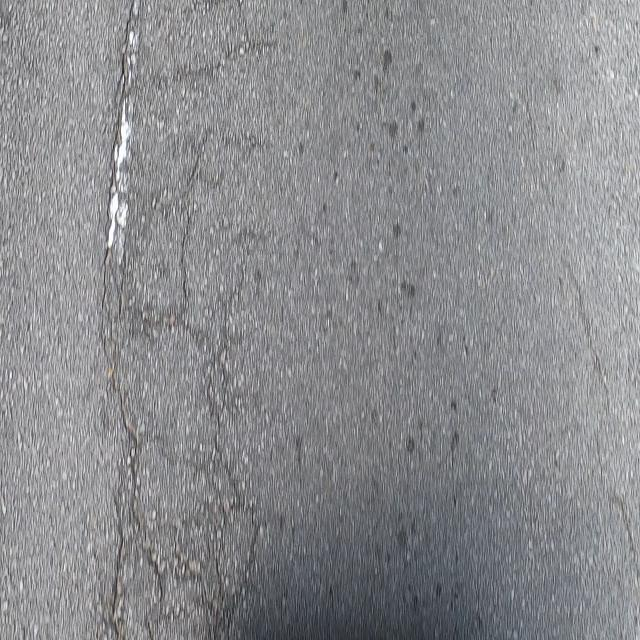Retak-Buaya: (95, 5, 267, 640)
Retak-Memanjang: (554, 249, 615, 418), (591, 430, 640, 590)
